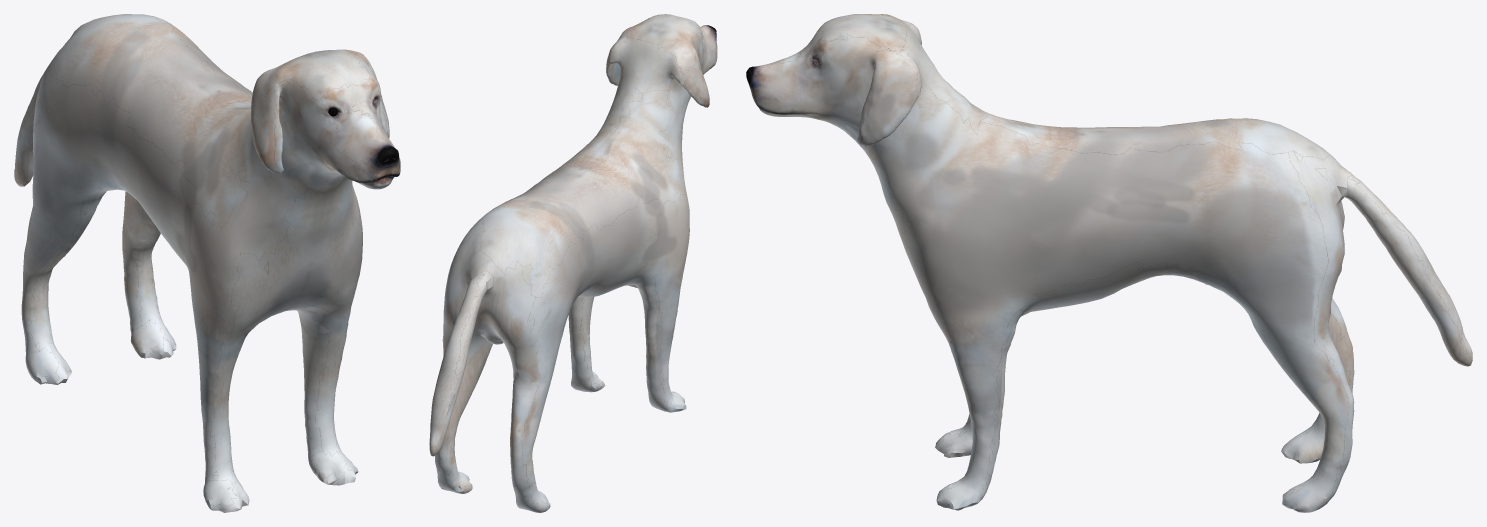
The model's file is pet_type_3.glb.
The picture shows the model from 3 angles, left to right: view 1: azimuth 30°, elevation 25°; view 2: azimuth 150°, elevation 25°; view 3: azimuth 270°, elevation 25°; orthographic projection. The views are drawn at different scales.
Visible parts, largest first — view 1: body; view 2: body; view 3: body.
Part boxes in pixels (x1,y1,x2,y2): body: (14, 14, 400, 512); body: (429, 14, 717, 512); body: (746, 14, 1472, 512).
Bounding box in the file's own units: 0.224 × 0.6744 × 0.9649.
Materials: 2 (1 with a texture image).
